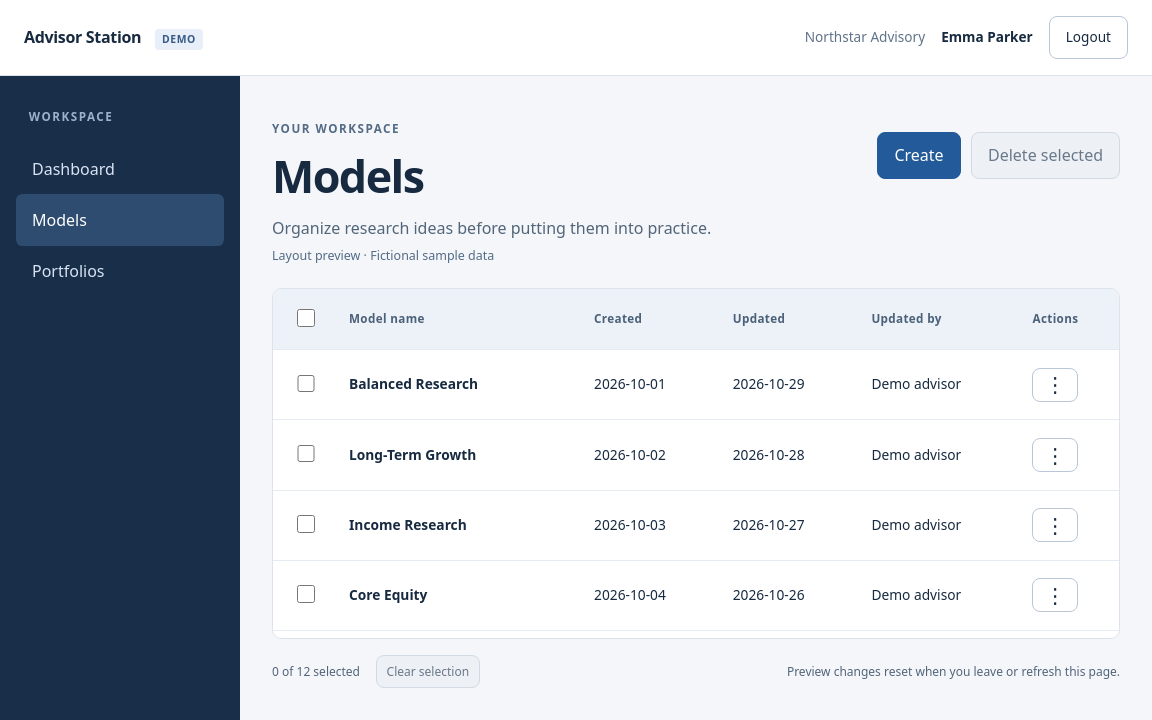
Test: resets selected rows when the shared session is replaced in another tab
Click the checkbox named "Select Balanced Research" at (306, 384), box [297,375,315,392]
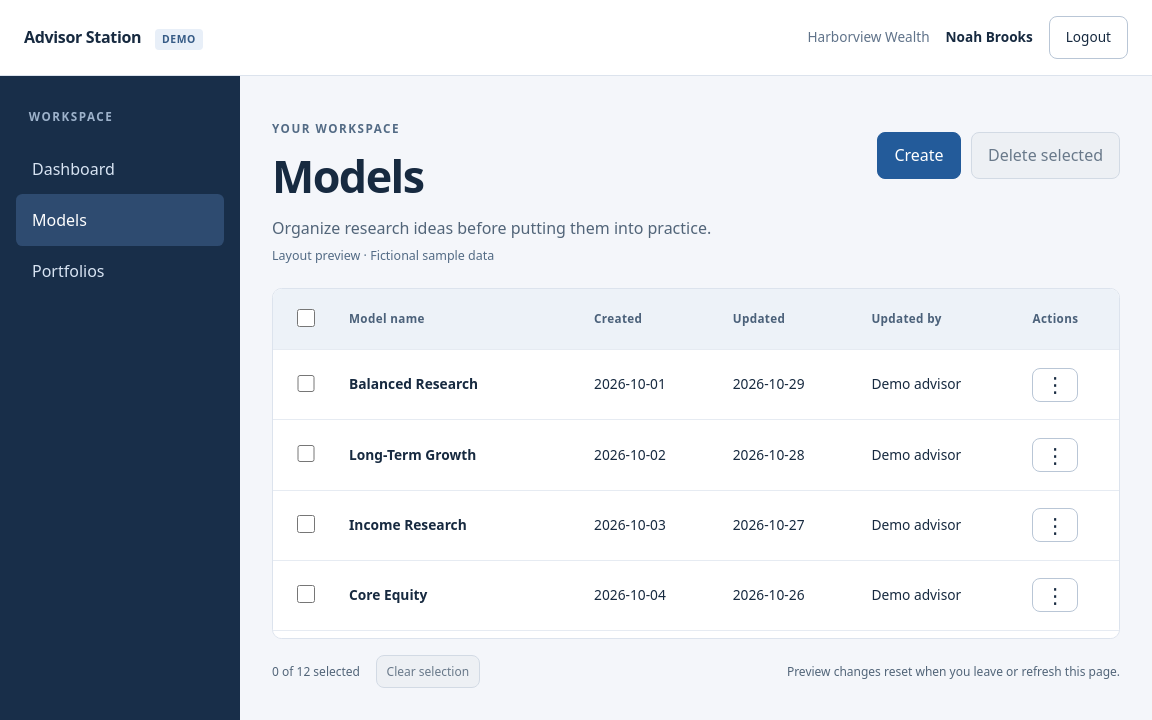
Expected: the message reads "0 of 12 selected", [272,663,360,681]
Expected: the text "Noah Brooks" is shown, [946,27,1033,48]
